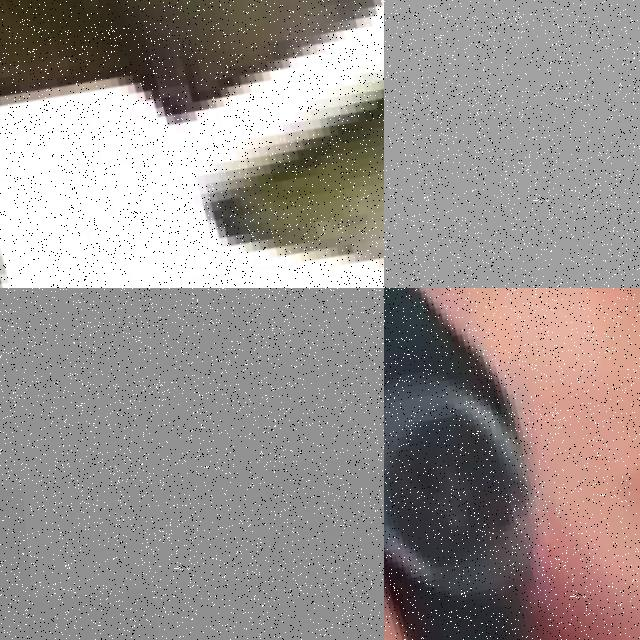drone: (0, 0, 384, 288), (384, 288, 640, 640)
